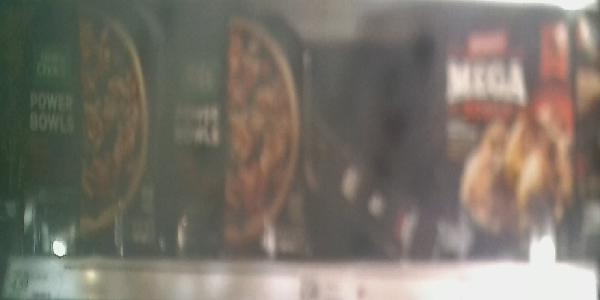pizza1: (439, 6, 598, 262), (8, 4, 162, 262), (163, 4, 309, 262)
